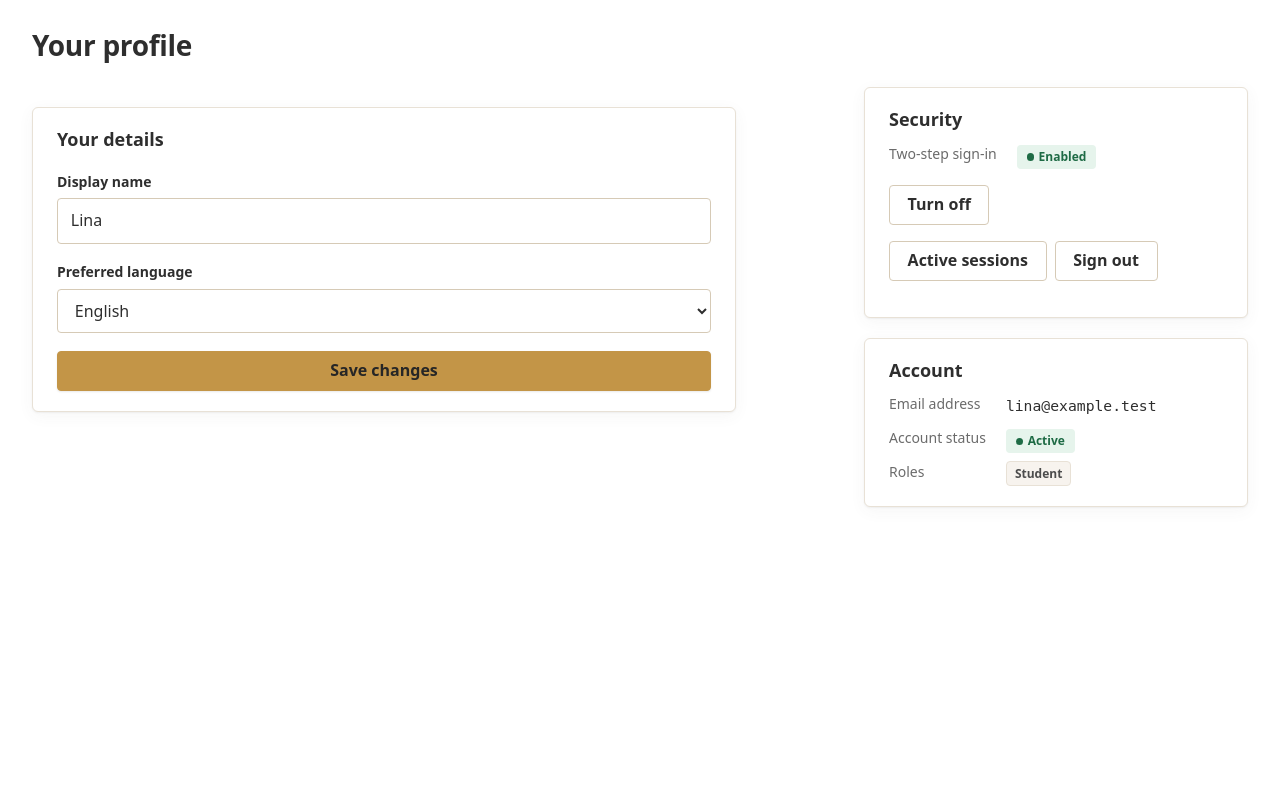
Test: turning off two-step sign-in › announces success only once the badge already says off
The width and height of the screenshot is (1280, 800).
Click the button with aria-label "Turn off two-step sign-in": (939, 205) [889,185,989,225]
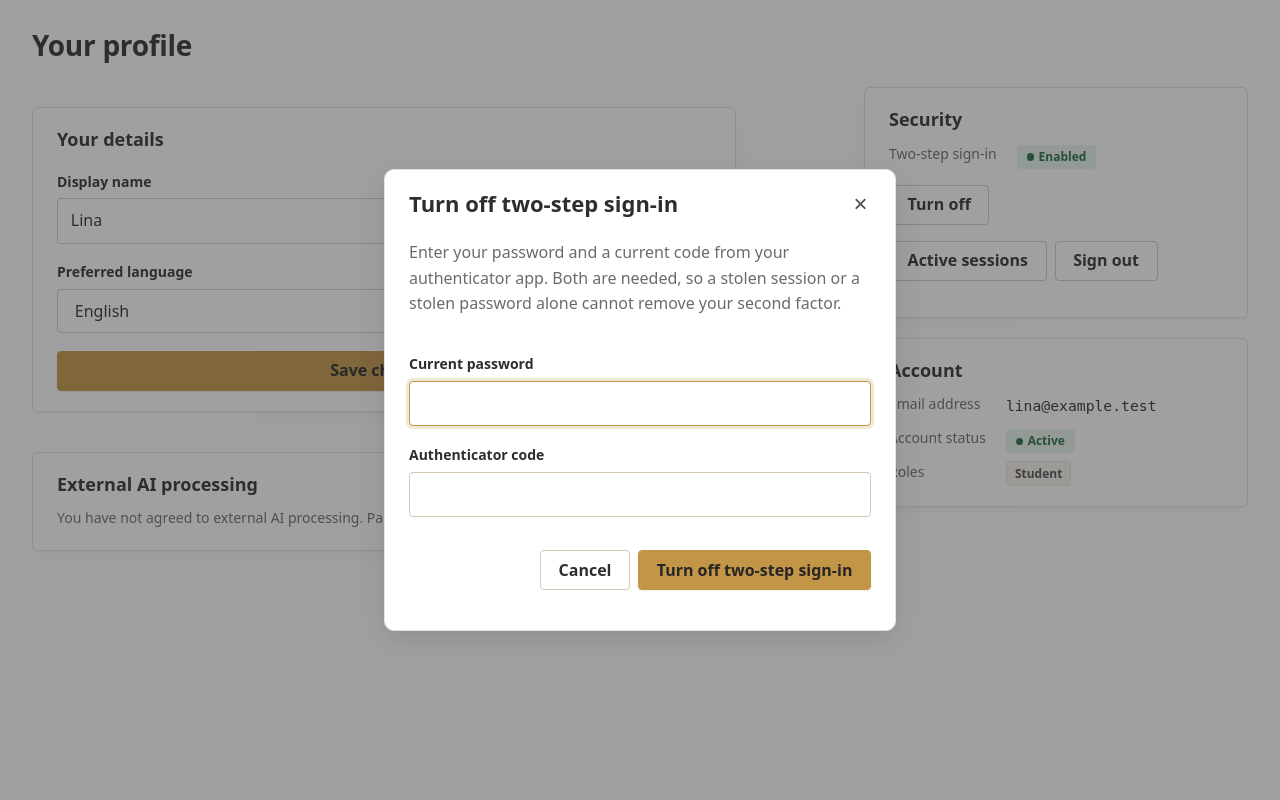
In the password field labelled "Current password": (640, 403) [409,381,871,426], type "my password"
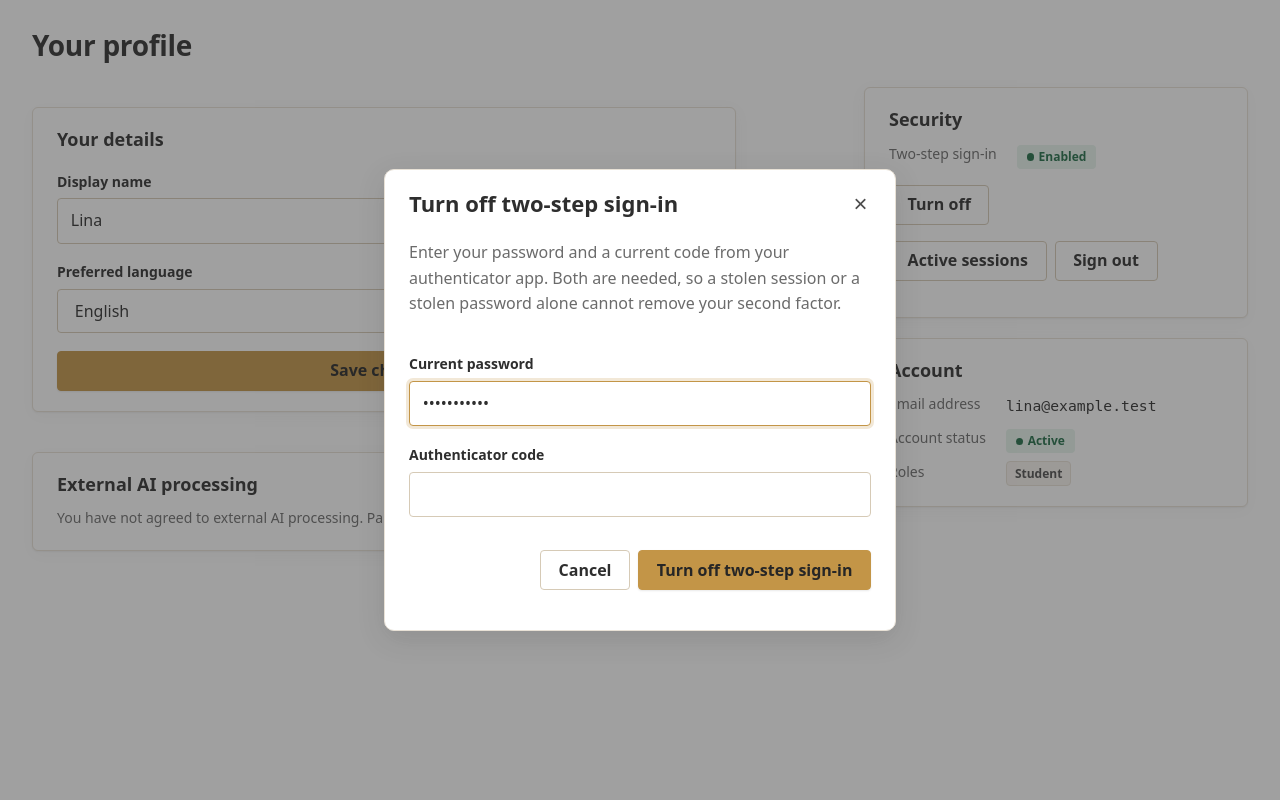
In the field labelled "Authenticator code": (640, 494) [409,472,871,517], type "123456"
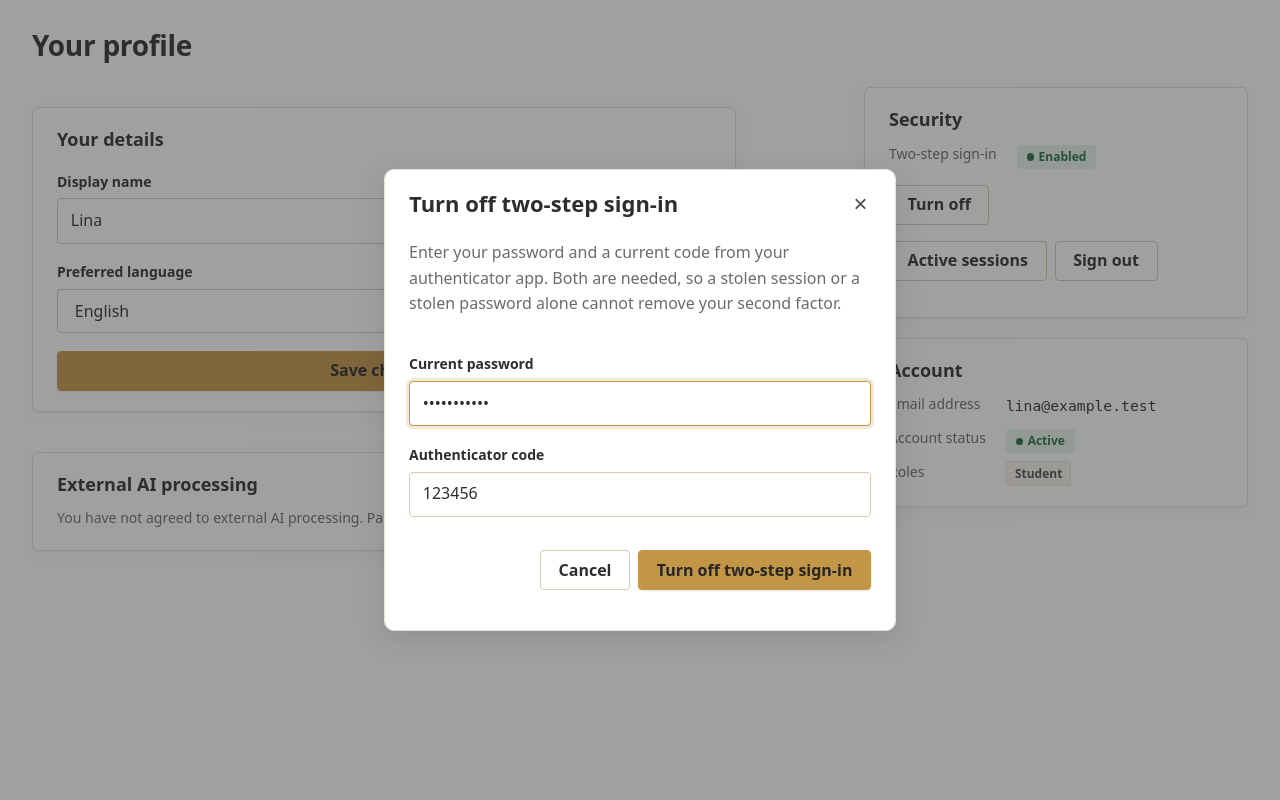
Click the button "Turn off two-step sign-in": (755, 570) [638,550,871,590]
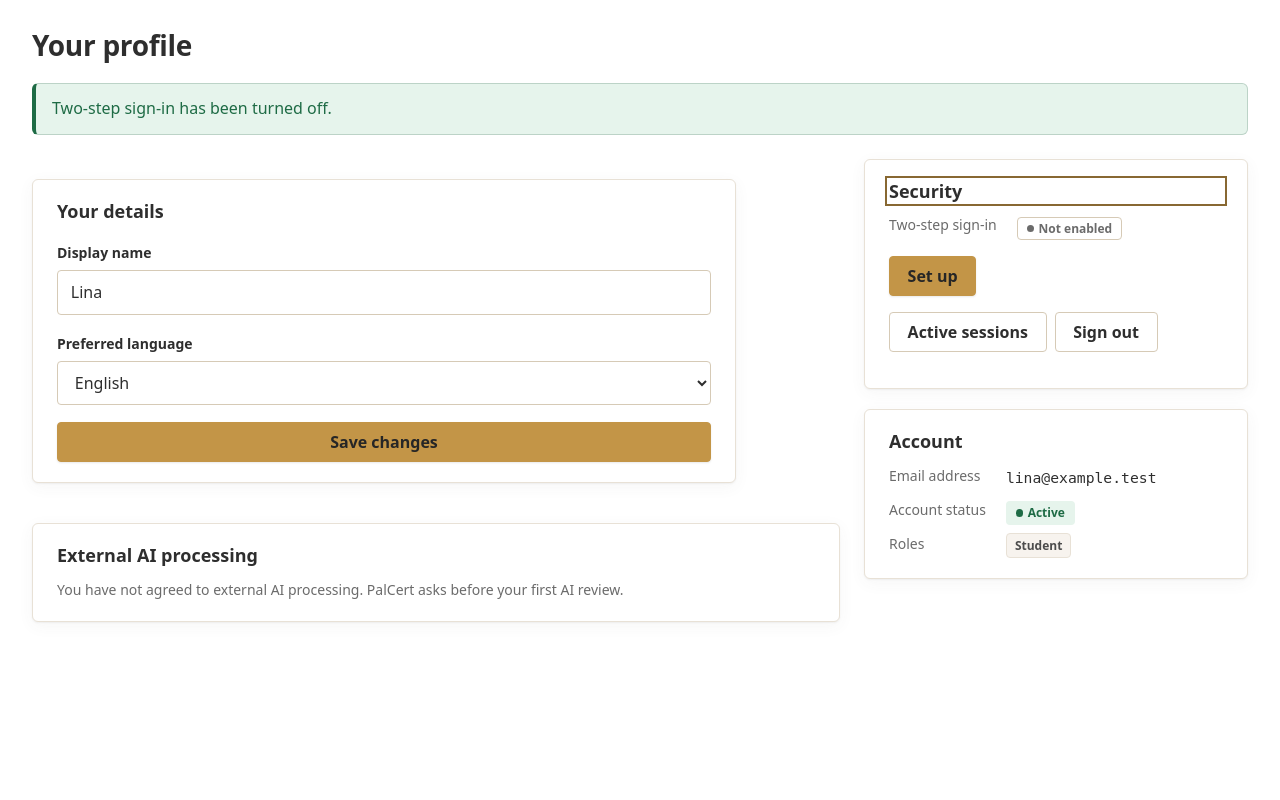
Now the message reads "Two-step sign-in has been turned off.", box [52,97,332,119]
Now the text "Not enabled" is shown, box [1017,217,1122,240]
